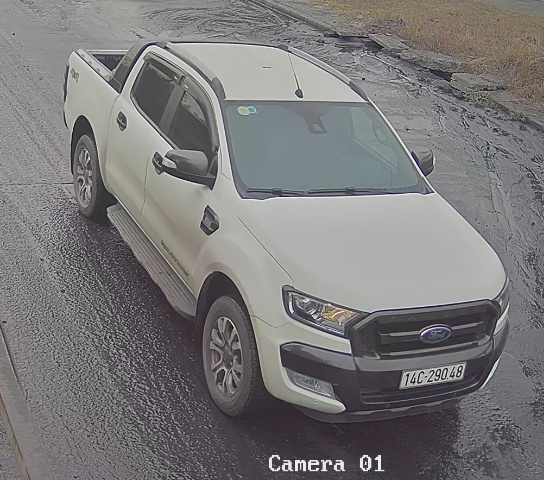vehicle plate: (396, 362, 485, 386)
